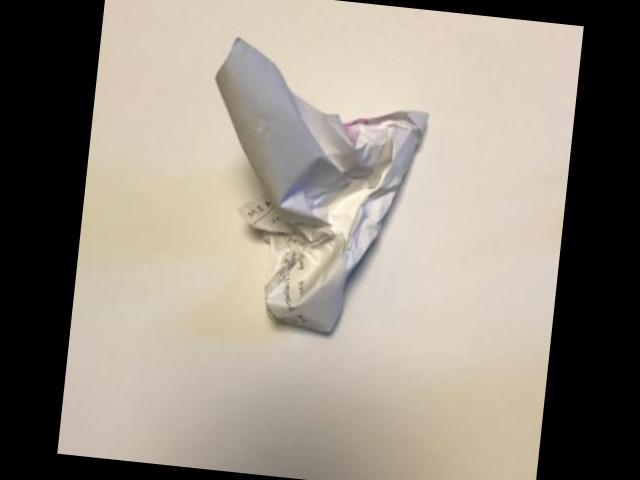cardboard paper: (217, 38, 428, 333)
